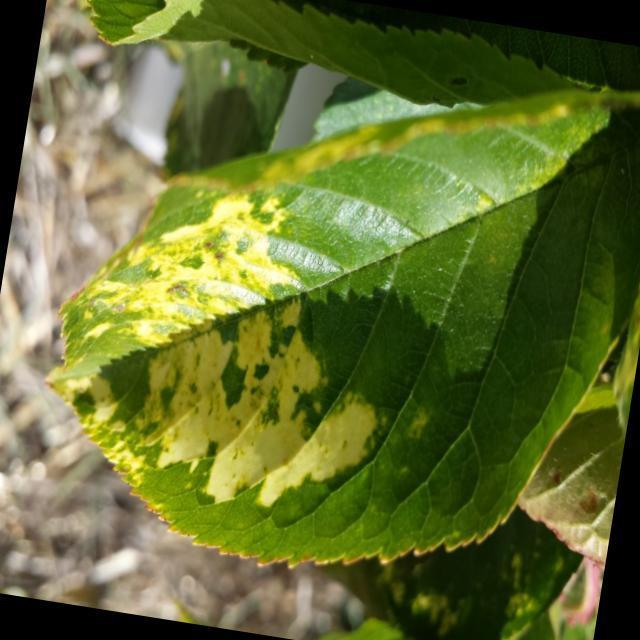Mosaic Virus: (26, 42, 640, 599)
